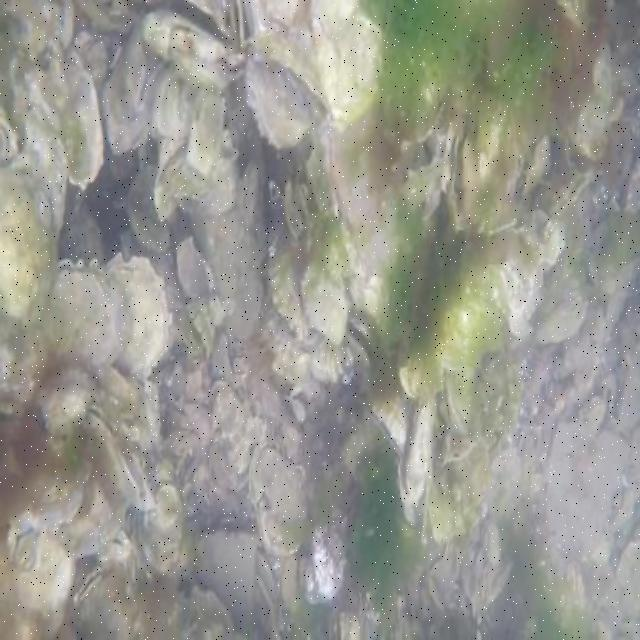Oyster-Closed: (0, 112, 68, 415), (46, 258, 130, 375), (104, 254, 169, 379), (492, 209, 563, 321), (57, 438, 124, 555), (313, 17, 383, 122), (87, 402, 153, 510), (249, 32, 332, 117), (107, 22, 157, 153), (246, 54, 309, 146), (252, 450, 308, 551), (269, 197, 308, 331), (132, 482, 184, 579), (400, 388, 438, 512), (302, 262, 347, 344), (127, 166, 169, 252), (40, 370, 94, 435), (187, 92, 225, 173), (312, 511, 347, 597), (594, 210, 640, 272), (511, 133, 552, 198), (539, 296, 588, 346), (370, 395, 409, 455), (441, 372, 474, 439), (286, 182, 308, 240), (485, 398, 507, 455), (239, 164, 257, 230), (581, 398, 607, 441), (264, 0, 298, 31), (0, 109, 18, 163), (77, 567, 102, 604), (336, 614, 362, 640), (232, 0, 244, 52)
Oyster-Open: (10, 442, 87, 535), (142, 0, 232, 79), (390, 129, 444, 216), (447, 117, 487, 232), (346, 316, 375, 370)
